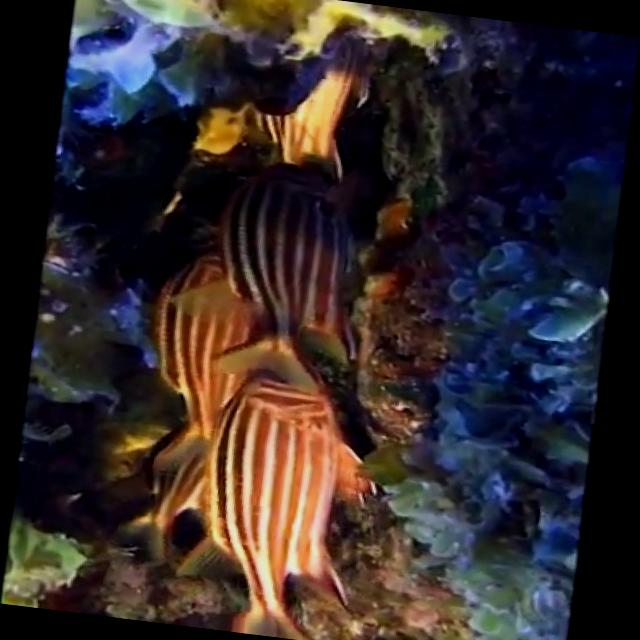Asker Baligi: (160, 230, 369, 640)
